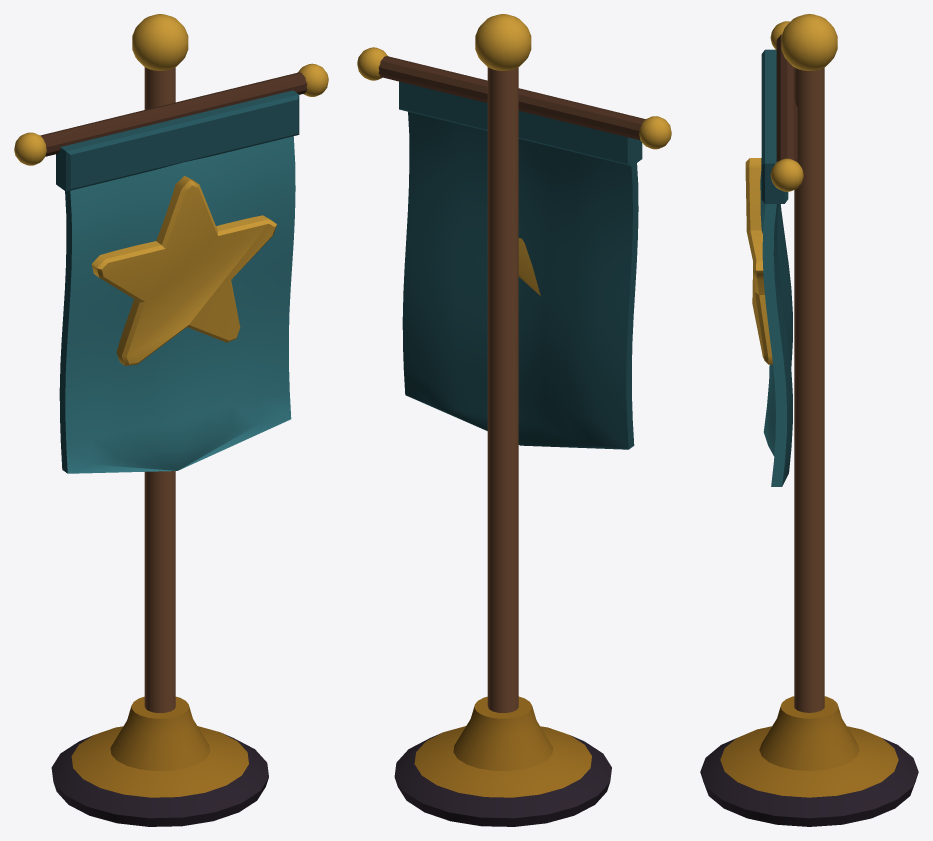
The model's file is Banner_03.glb.
3 views of the same model, side by side, from view 1: azimuth 30°, elevation 25°; view 2: azimuth 150°, elevation 25°; view 3: azimuth 270°, elevation 25° (orthographic).
Parts seen in each view (by area): view 1: Banner_03; view 2: Banner_03; view 3: Banner_03.
Part boxes in pixels (x1=…): Banner_03: x1=14, y1=14, x2=328, y2=826; Banner_03: x1=357, y1=14, x2=671, y2=826; Banner_03: x1=700, y1=14, x2=918, y2=826.
Size of the model in its own units: 3.21 by 7.57 by 1.96.
